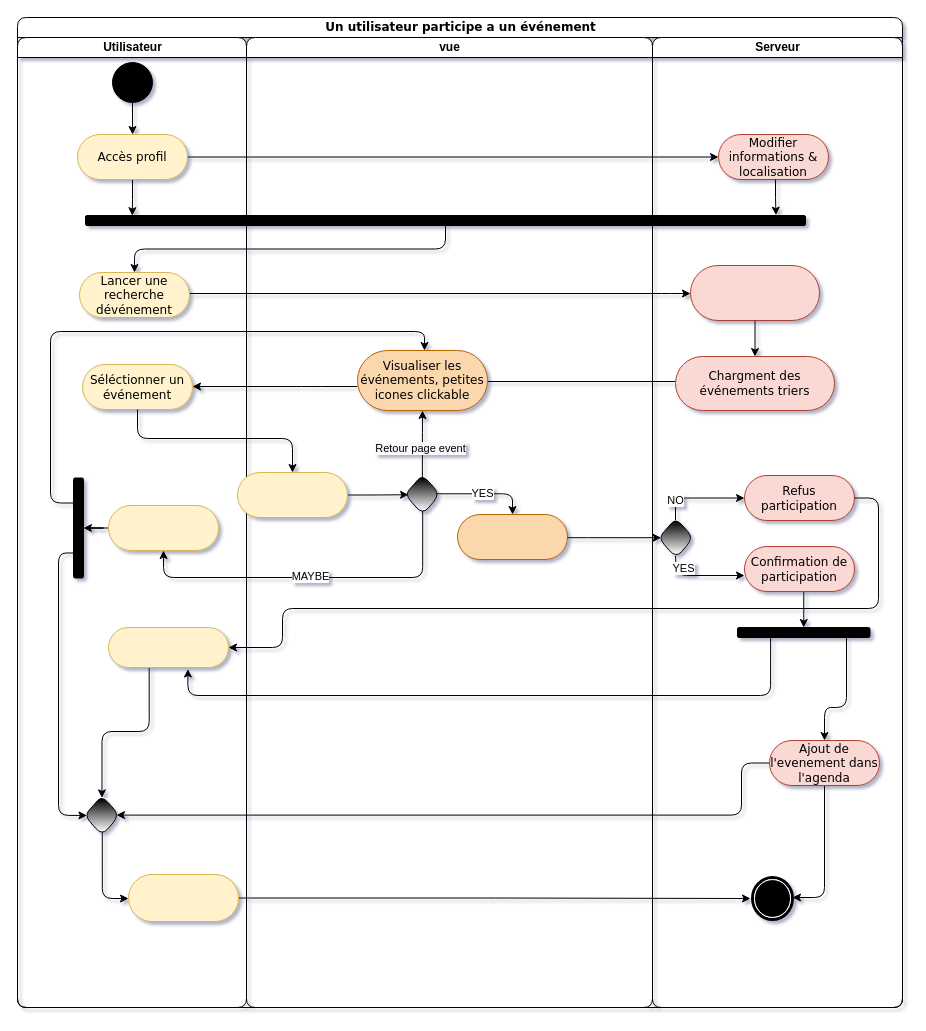
Image size: 926x1031. Some labels were removed from this diagram. The centre of each missing label's shape, as x and y in pixels:
"Ajouter événements a ses favoris" goes at (x=163, y=527).
"Envoi demande de participation" goes at (x=512, y=537).
"Lecture de la descrition" goes at (x=292, y=495).
"Recupère événements trier par localisation client" goes at (x=755, y=292).
"Retour profil" goes at (x=183, y=898).
"Récéption de mail de confirmation" goes at (x=168, y=647).
